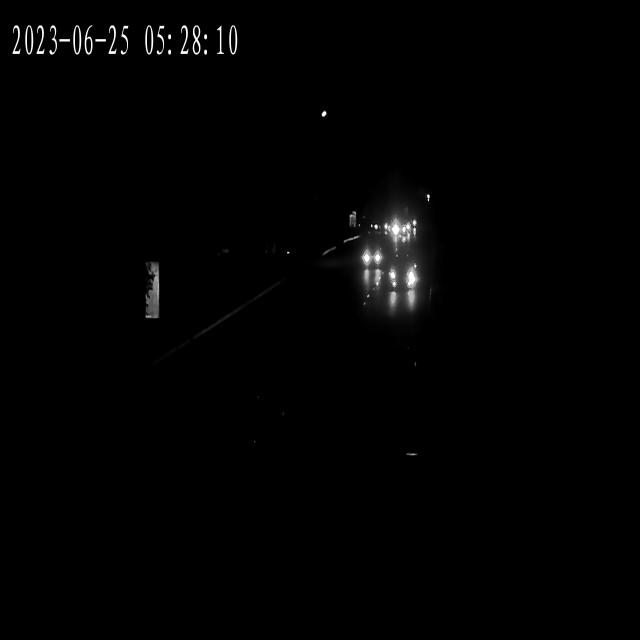Car: (389, 258, 419, 301), (364, 239, 383, 273), (371, 217, 388, 236), (393, 222, 408, 238), (406, 218, 418, 233)
